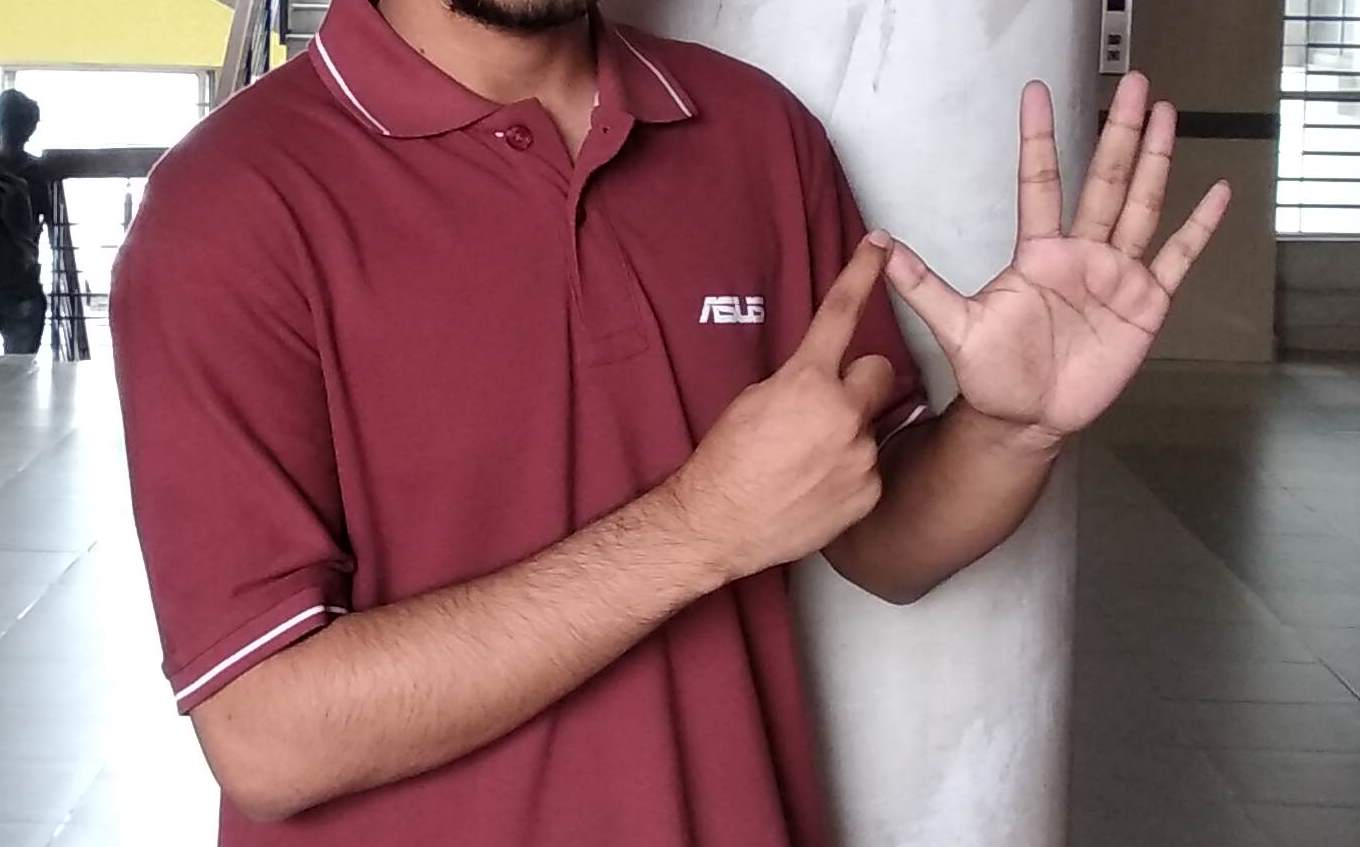a: (730, 71, 1221, 544)
